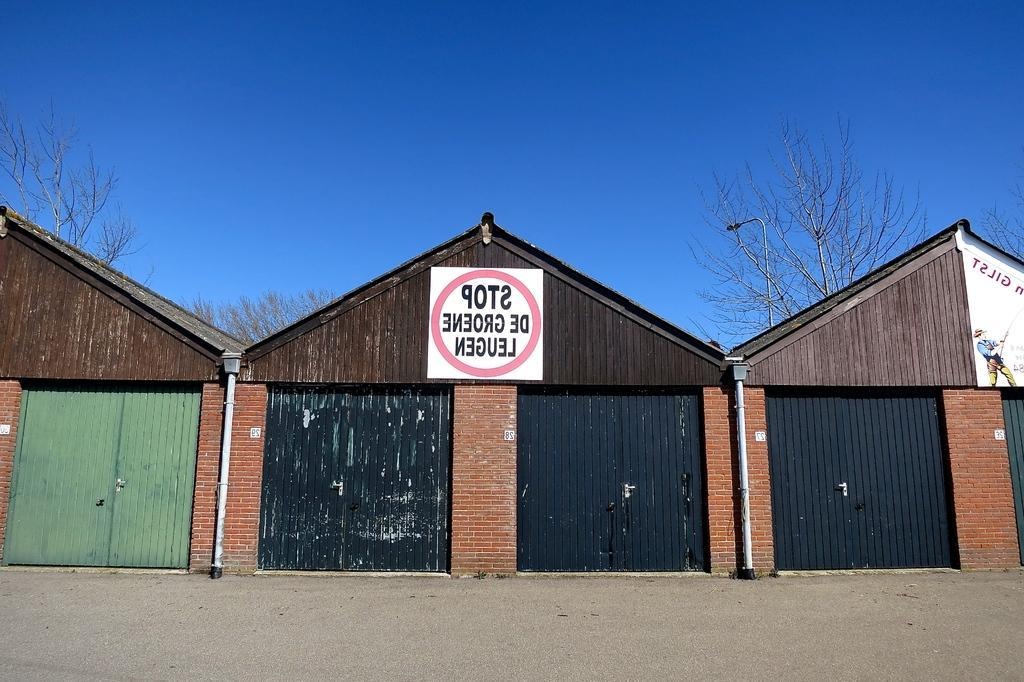door: (17, 386, 124, 562), (345, 390, 449, 559), (606, 396, 696, 579), (514, 397, 606, 573), (772, 394, 858, 566), (114, 388, 198, 558), (864, 404, 946, 572), (270, 393, 348, 567)
